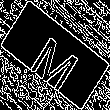M_NE: (26, 22, 84, 88)
